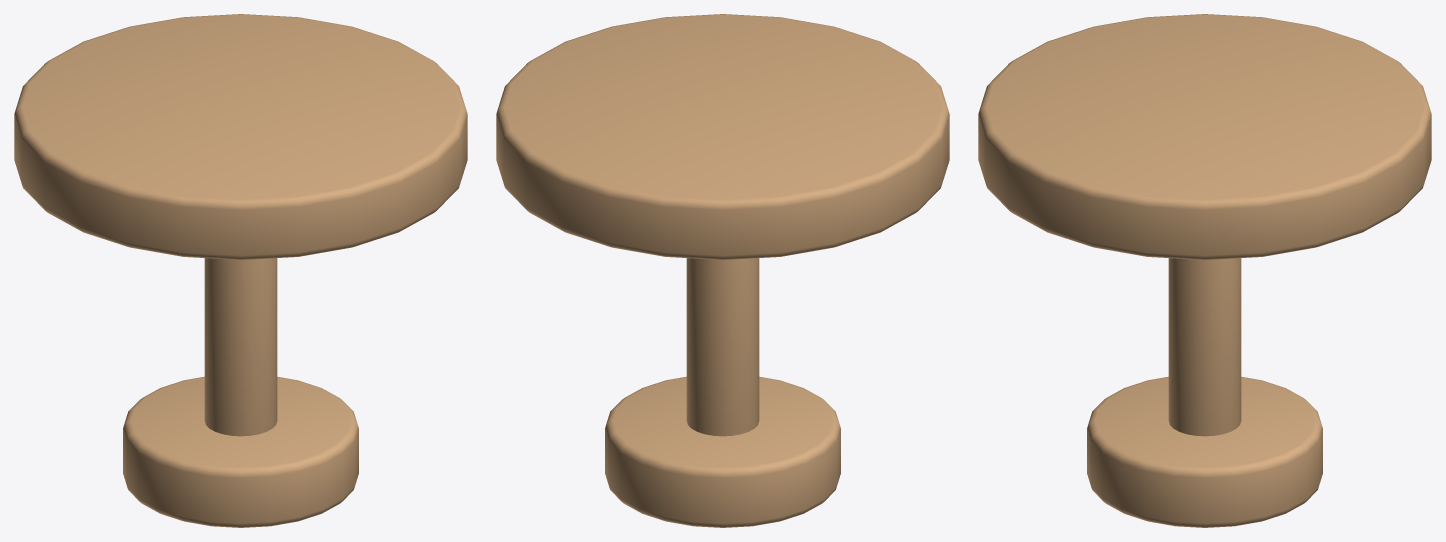
File: side-table.glb
3 renders of one model, left to right at view 1: azimuth 30°, elevation 25°; view 2: azimuth 150°, elevation 25°; view 3: azimuth 270°, elevation 25°, orthographic.
Parts seen in each view (by area): view 1: top.008, base.004, pedestal.002; view 2: top.008, base.004, pedestal.002; view 3: top.008, base.004, pedestal.002.
Part boxes in pixels (x1=…): top.008: x1=14, y1=14, x2=467, y2=259; base.004: x1=123, y1=376, x2=358, y2=527; pedestal.002: x1=204, y1=258, x2=277, y2=436; top.008: x1=496, y1=14, x2=949, y2=259; base.004: x1=605, y1=376, x2=840, y2=527; pedestal.002: x1=686, y1=258, x2=759, y2=436; top.008: x1=978, y1=14, x2=1431, y2=259; base.004: x1=1087, y1=376, x2=1322, y2=527; pedestal.002: x1=1168, y1=258, x2=1241, y2=436.
Size of the model in its own units: 0.55 by 0.5 by 0.55.
